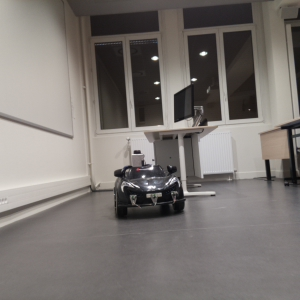big: (113, 165, 187, 220)
